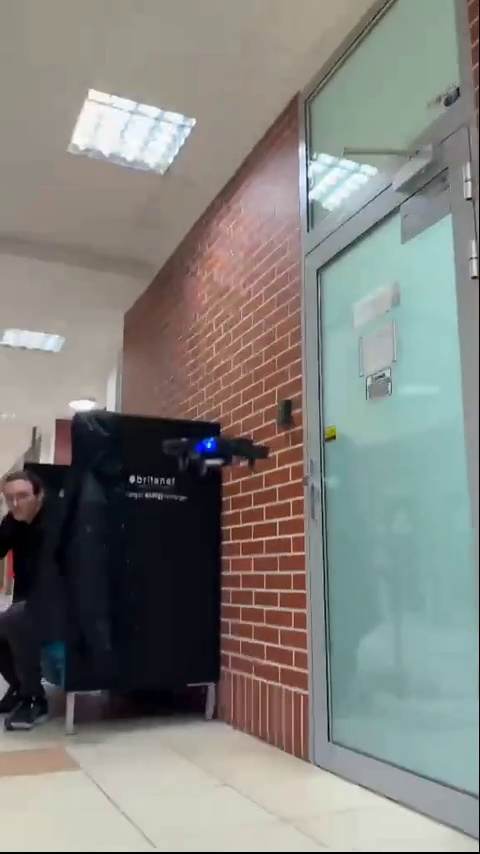drone: (158, 427, 260, 470)
no vest: (0, 466, 92, 733)
